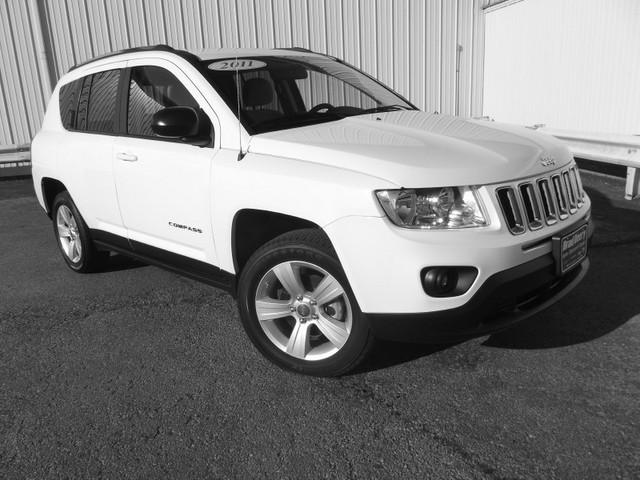car: (32, 43, 600, 380)
